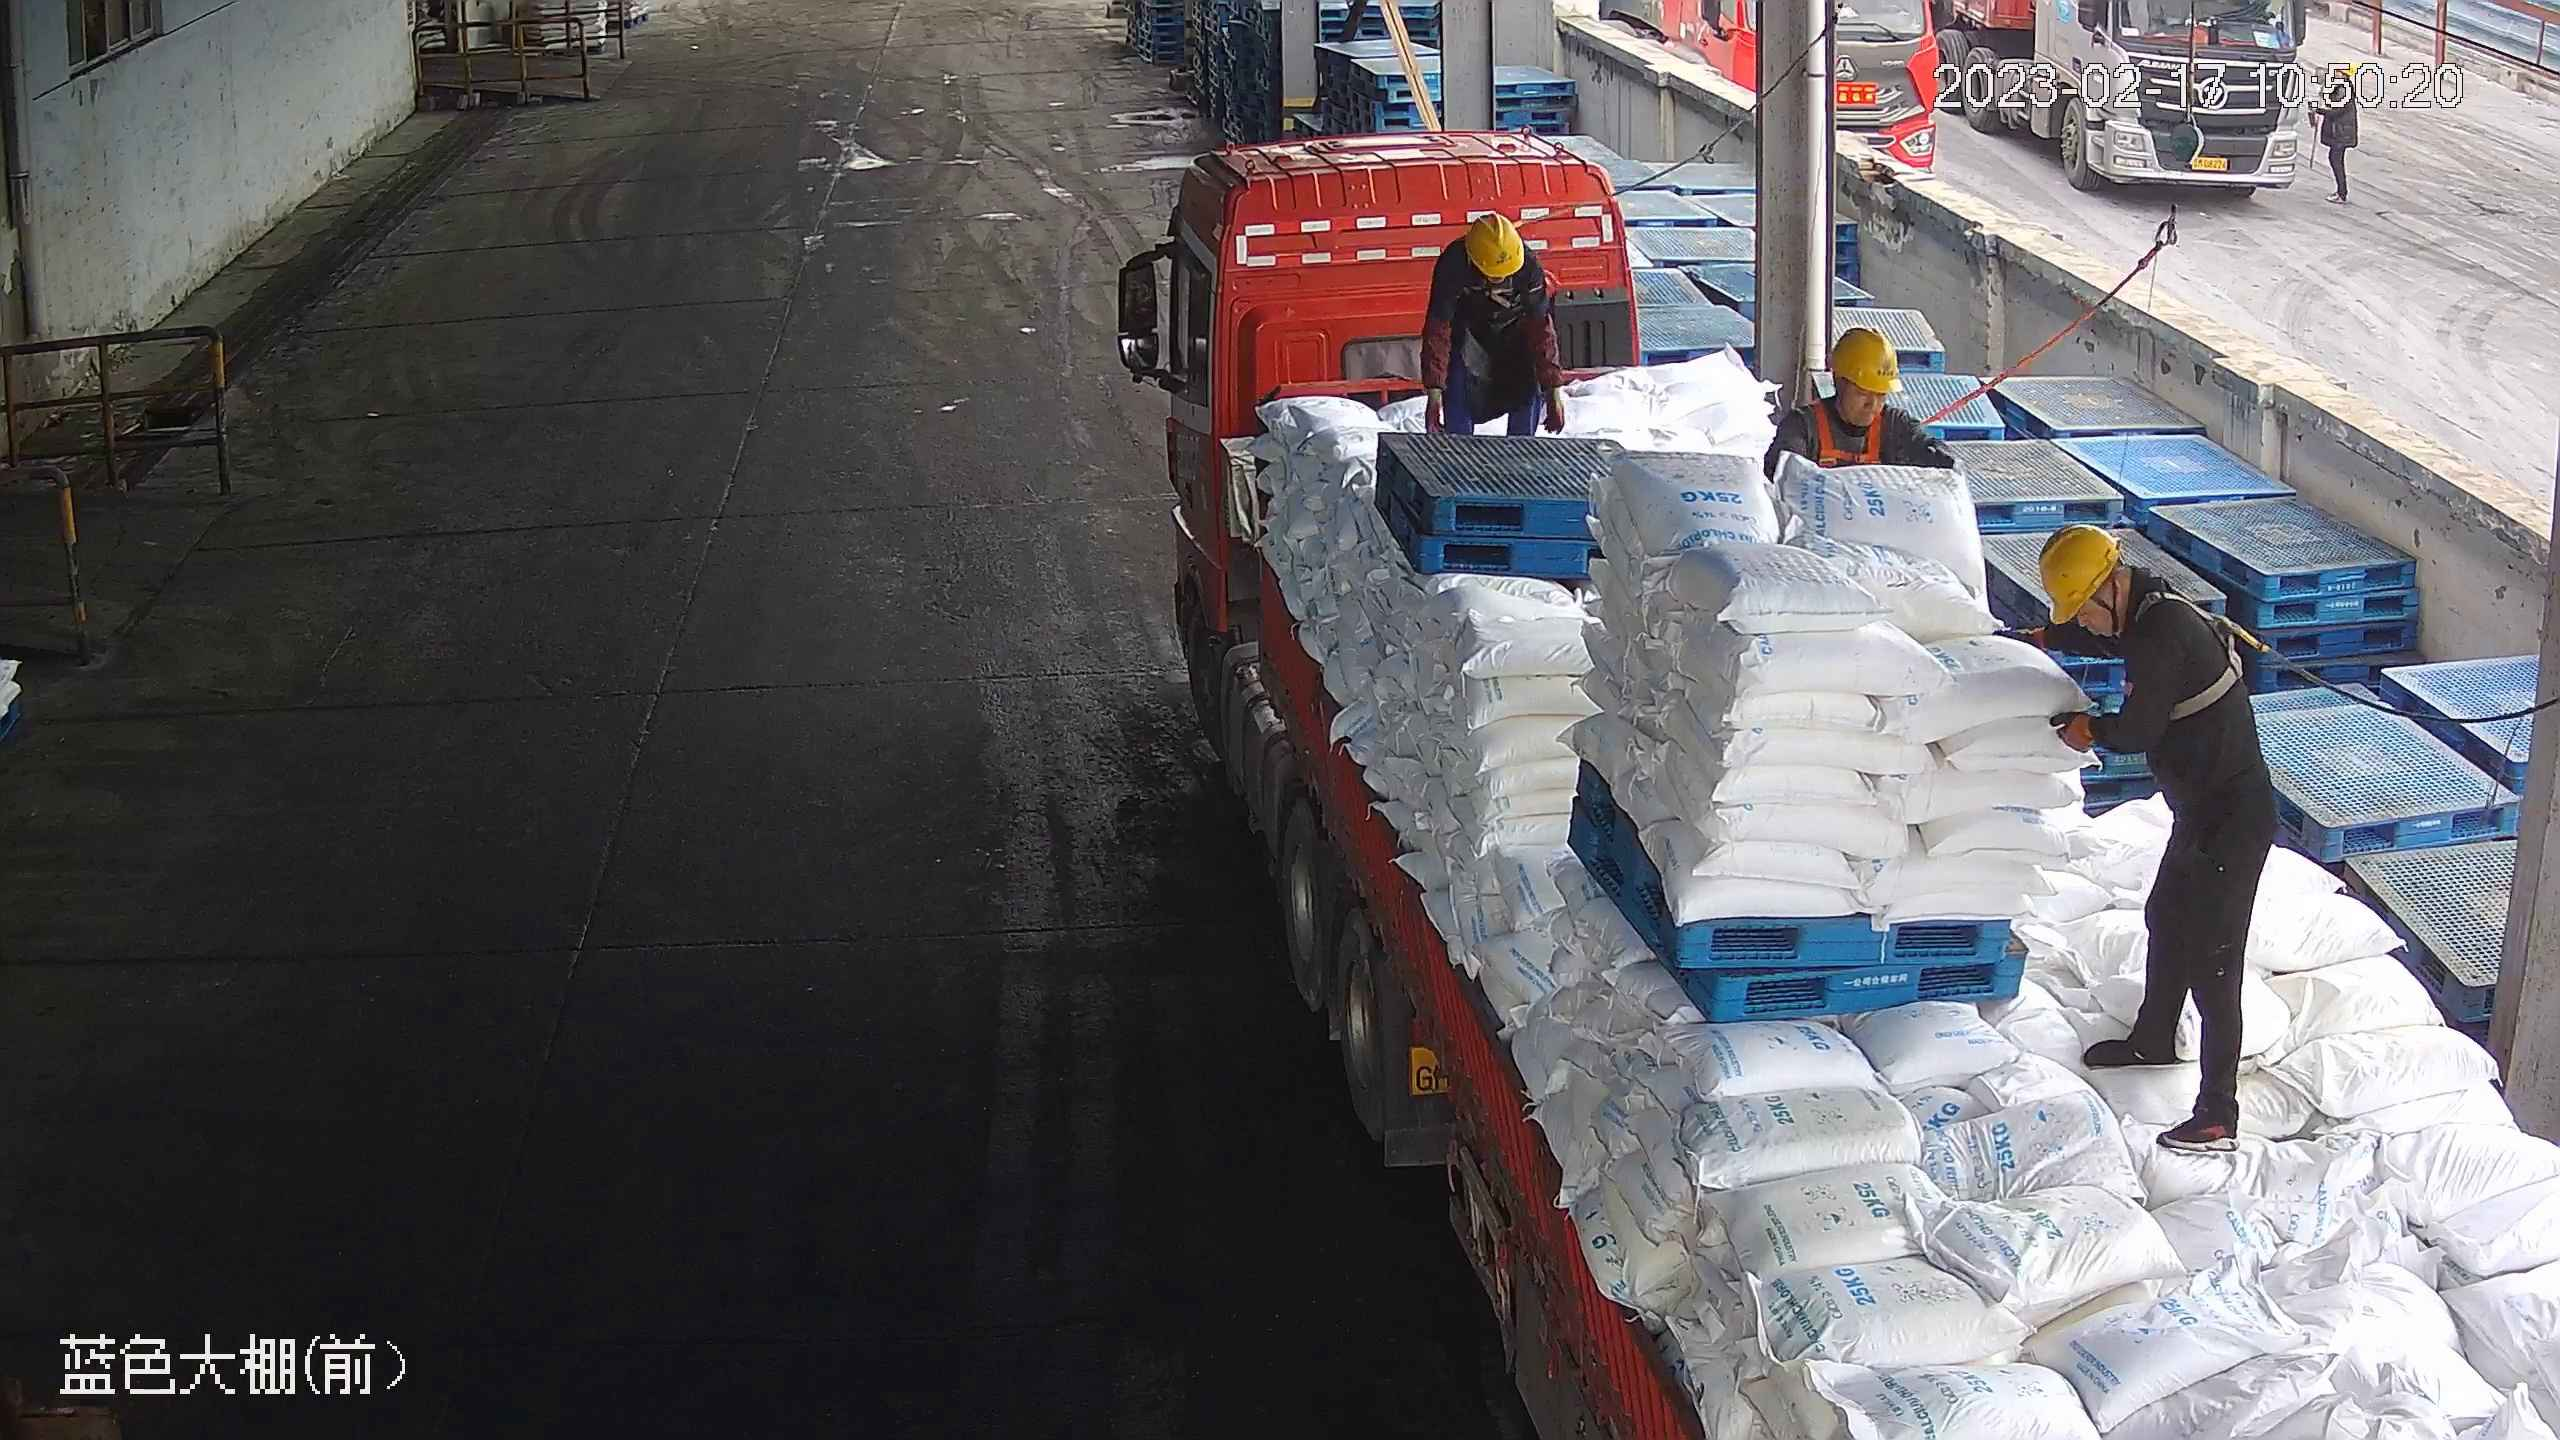belt: (2130, 580, 2262, 725), (1810, 394, 1890, 472), (1465, 256, 1530, 305)
head: (2034, 521, 2225, 688), (1778, 324, 1933, 454), (1432, 209, 1552, 304), (2317, 60, 2367, 102)
helmet: (2034, 521, 2127, 626), (1826, 324, 1901, 394), (1462, 208, 1527, 279)
people: (2028, 517, 2281, 1158), (1421, 209, 1561, 439), (2309, 58, 2367, 203)
truck: (1104, 129, 2558, 1439)
